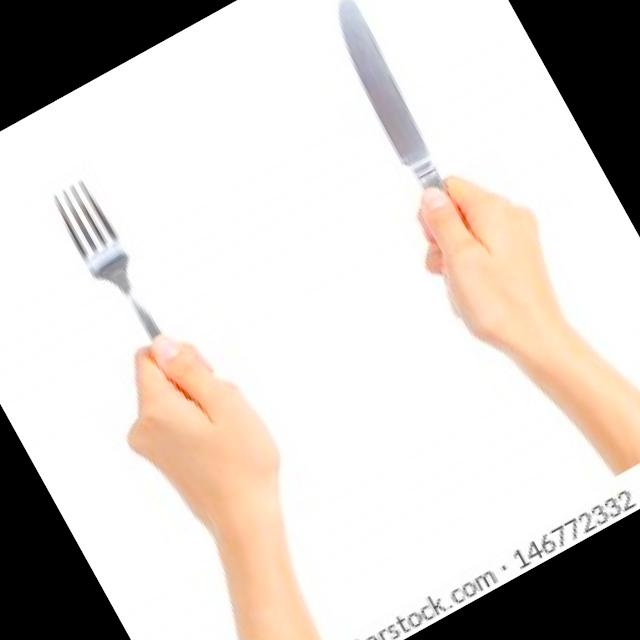fork: (41, 169, 210, 413)
